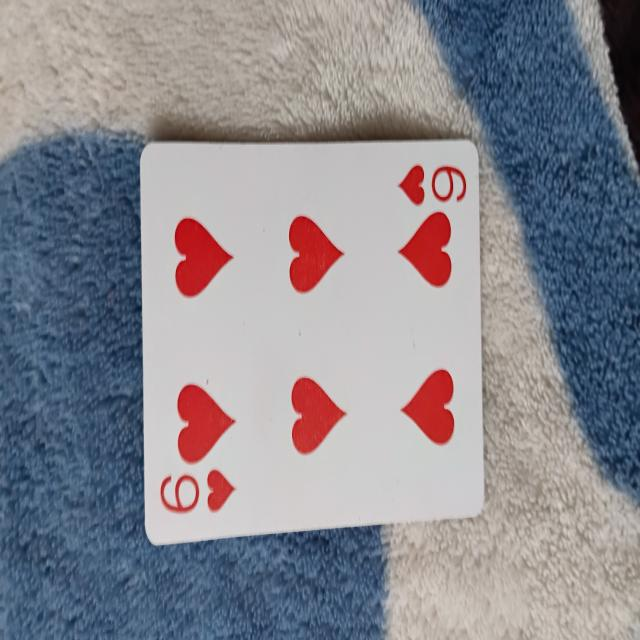6H: (140, 145, 482, 520)
